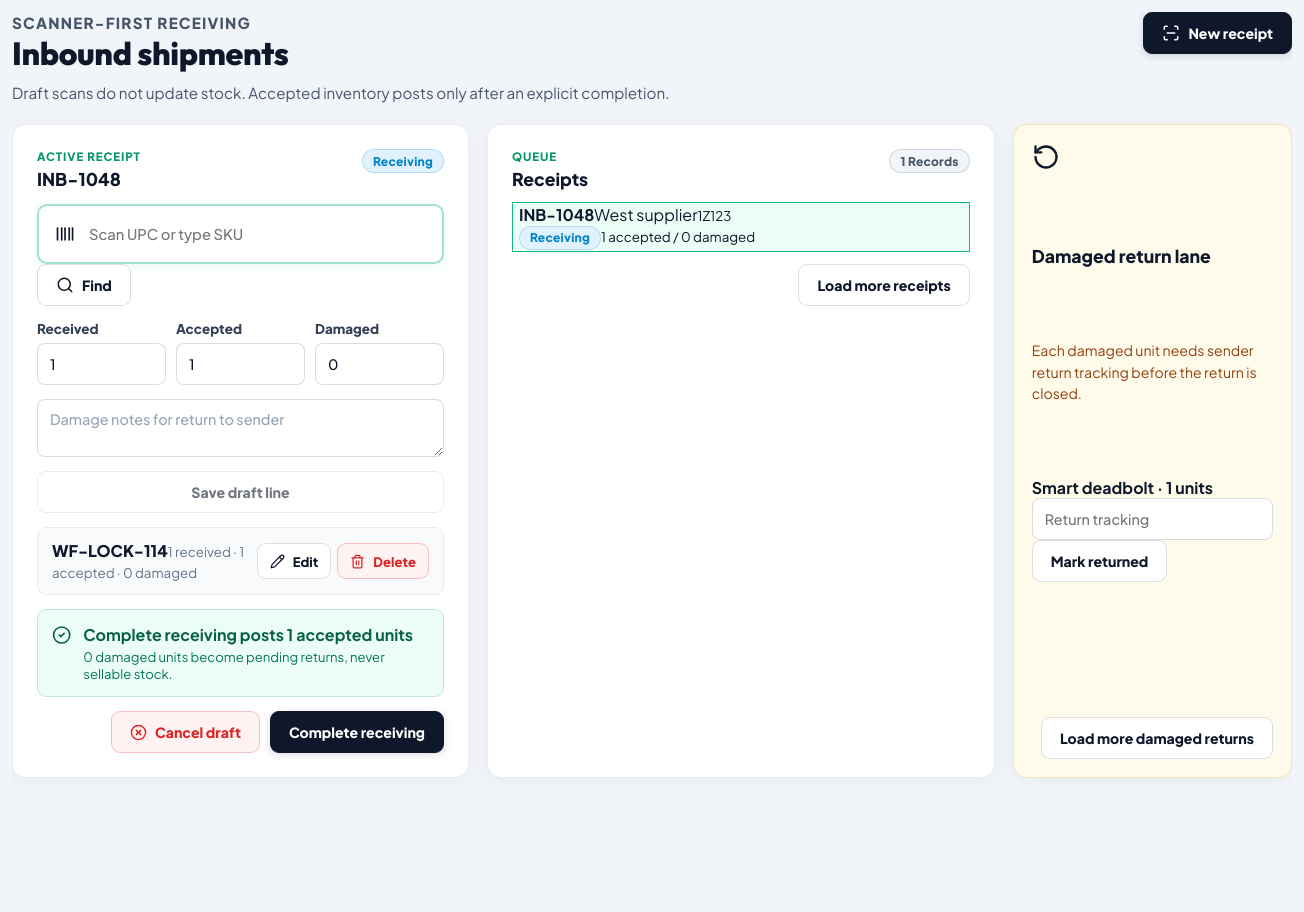
Test case: ReceivingPage › loads more receipts and pending damaged returns without duplicate records
Click the button "Load more receipts": (884,285) [798,264,970,306]
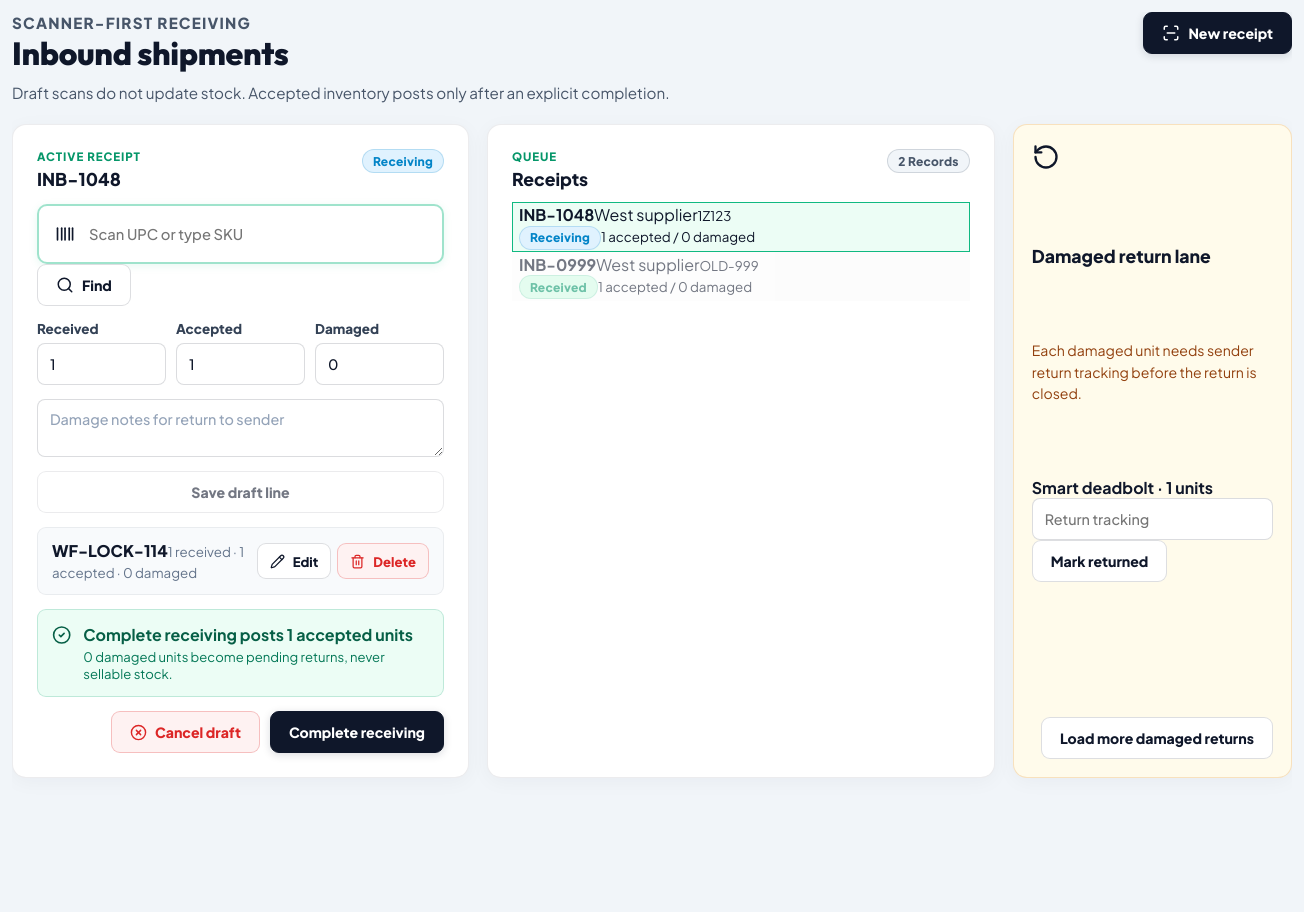
Expected: the text "INB-0999" is shown, [519,254,596,275]
Expected: the number of buttons "INB-1048West supplier1Z123 receiving 1 accepted / 0 damaged" is 1, [512,202,970,252]
Expected: the button "Load more receipts" is gone
Click the button "Load more damaged returns": (1157,738) [1041,717,1273,759]
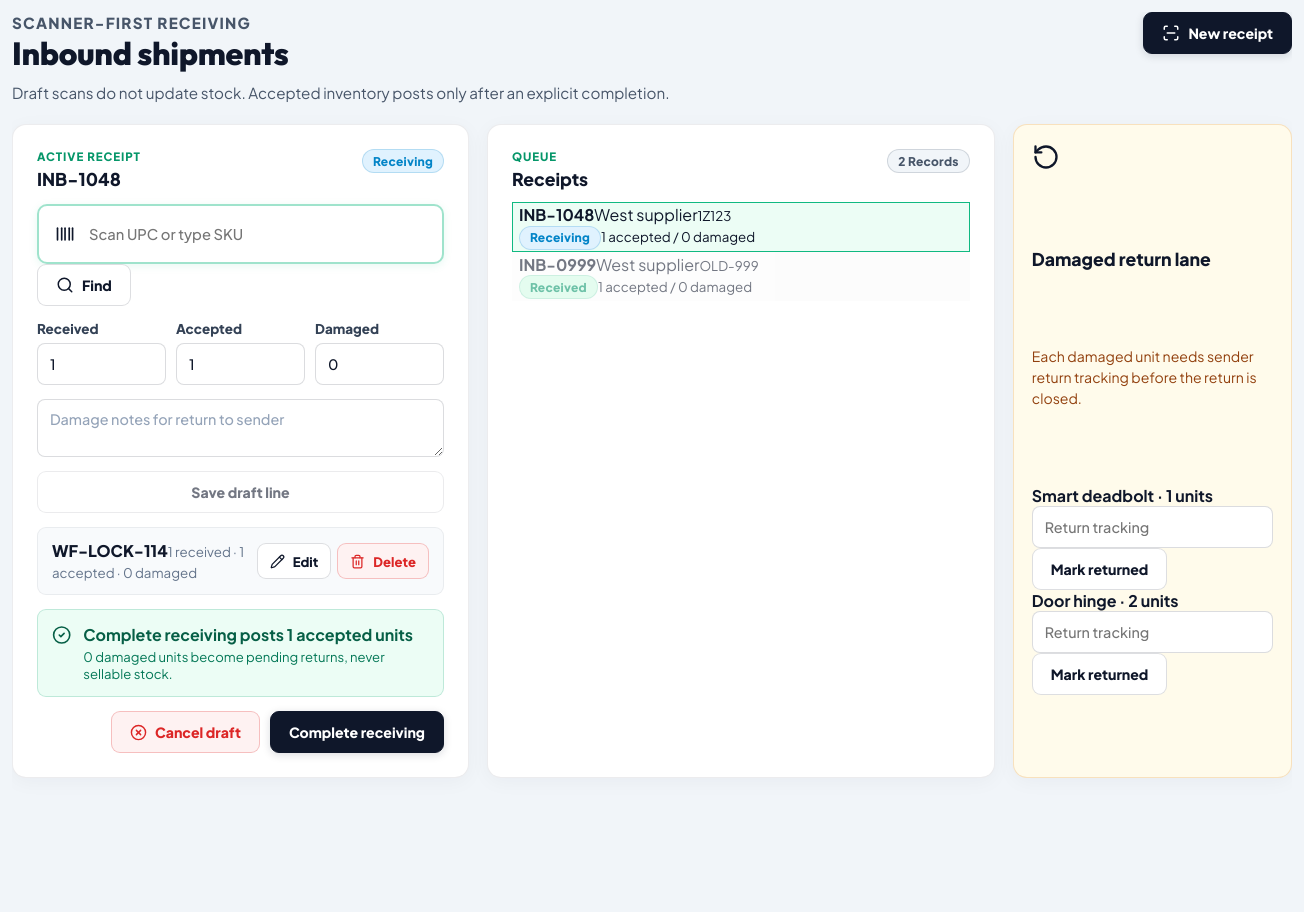
Expected: the text "Door hinge · 2 units" is shown, [1032,590,1178,611]
Expected: the text "Smart deadbolt · 1 units" is shown once, [1032,485,1213,506]
Expected: the button "Load more damaged returns" is gone
